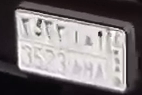2: (43, 15, 55, 81)
3: (55, 19, 70, 89), (20, 13, 34, 72)
5: (34, 15, 46, 74), (34, 15, 44, 77)
A: (95, 28, 106, 86), (72, 27, 83, 83)
H: (82, 33, 96, 83)
